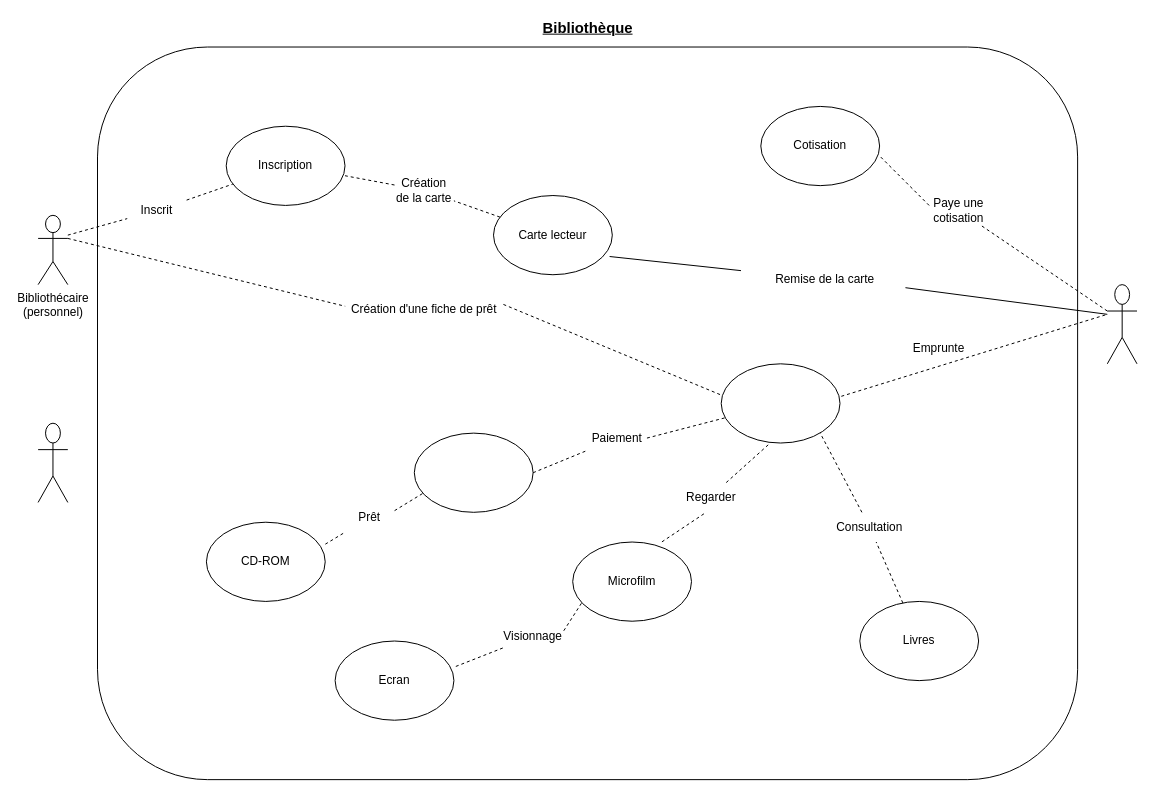
Some shapes in this 1170 by 797 pixel diagram are drawn without their labels. Each missing label, with the centre of its shape:
Bénévoles: [52,462]
Caution: [473,472]
Différents articles: [780,403]
Emprunteur Lecteur: [1121,324]
